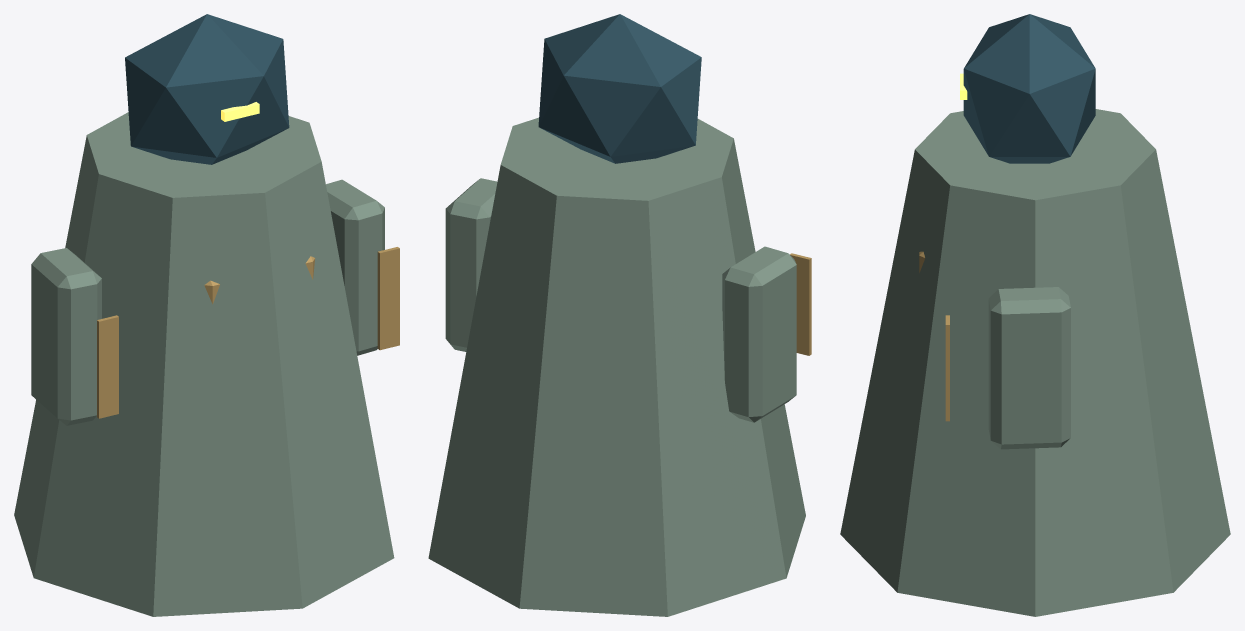
The model's file is keeper.glb.
3 renders of one model, left to right at view 1: azimuth 30°, elevation 25°; view 2: azimuth 150°, elevation 25°; view 3: azimuth 270°, elevation 25°, orthographic.
Parts seen in each view (by area): view 1: Keeper mass, Sealed face, Catalogue shield, Catalogue shield.001, Shield inlay.001, Shield inlay; view 2: Keeper mass, Sealed face, Catalogue shield, Catalogue shield.001, Shield inlay; view 3: Keeper mass, Sealed face, Catalogue shield.001, Shield inlay.001.
Boxes of the visible parts, x1,y1,x2,y2 form: Keeper mass: [14, 112, 394, 616]; Sealed face: [125, 14, 289, 164]; Catalogue shield: [31, 248, 101, 425]; Catalogue shield.001: [326, 179, 384, 355]; Shield inlay.001: [377, 247, 399, 350]; Shield inlay: [97, 315, 118, 418]; Keeper mass: [428, 117, 805, 616]; Sealed face: [538, 14, 701, 163]; Catalogue shield: [722, 246, 796, 422]; Catalogue shield.001: [445, 178, 497, 351]; Shield inlay: [790, 253, 811, 355]; Keeper mass: [840, 109, 1230, 616]; Sealed face: [963, 14, 1095, 163]; Catalogue shield.001: [988, 287, 1070, 449]; Shield inlay.001: [945, 315, 949, 421].
Size of the model in its own units: 1.36 by 2 by 1.36.
